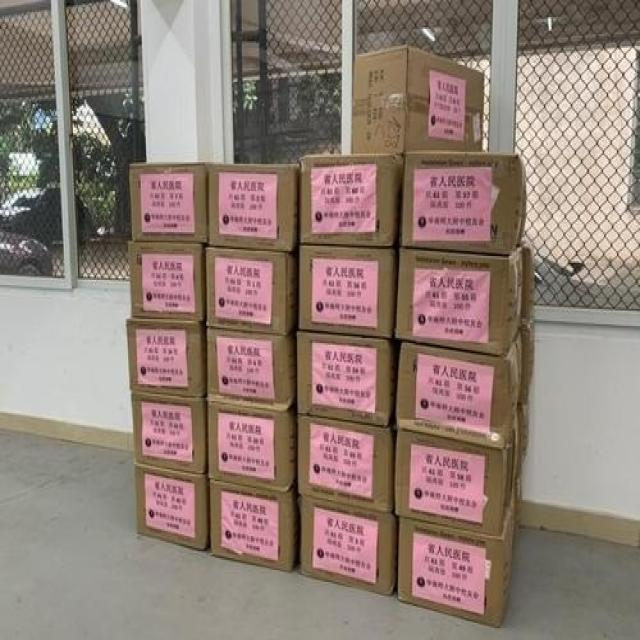box: (397, 500, 515, 628), (394, 336, 522, 451), (353, 44, 483, 152), (394, 247, 522, 355), (399, 152, 527, 256), (394, 428, 515, 536), (300, 152, 404, 247), (300, 497, 398, 597), (297, 416, 394, 514), (297, 331, 396, 427), (298, 244, 398, 338), (210, 476, 298, 573), (207, 398, 297, 492), (207, 162, 298, 253), (206, 246, 298, 335), (206, 328, 296, 411), (134, 464, 210, 551), (125, 319, 206, 398), (129, 162, 207, 242), (128, 241, 205, 321), (131, 393, 206, 474)
